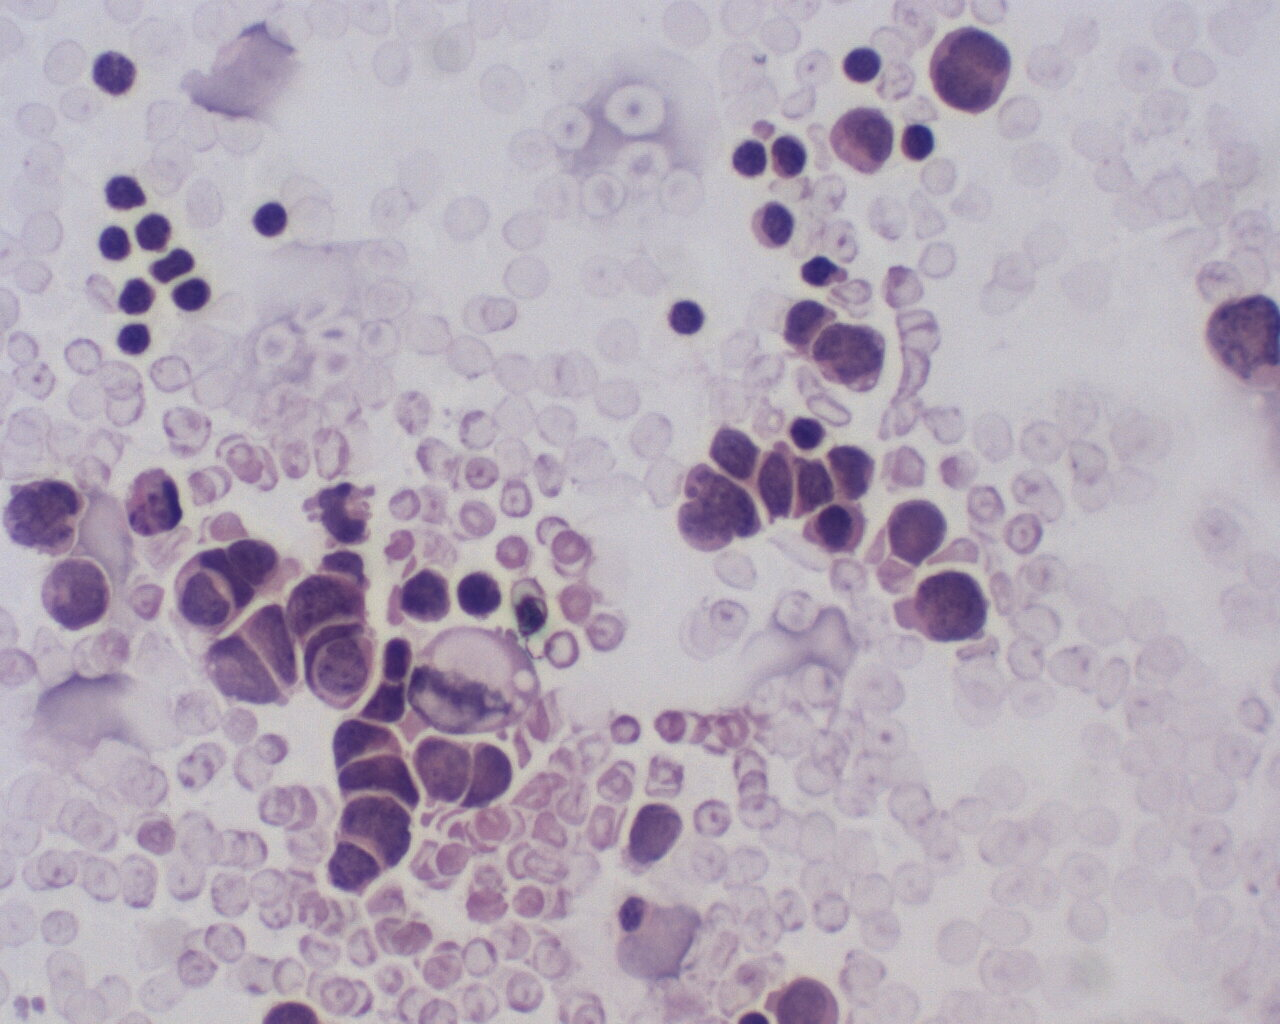ab: (317, 715, 424, 897), (283, 563, 377, 708), (193, 601, 302, 708), (413, 726, 526, 817), (926, 23, 1021, 114), (815, 316, 894, 405), (41, 551, 115, 636), (912, 571, 994, 646)
lymph: (882, 497, 954, 566), (246, 187, 300, 240), (898, 118, 939, 165), (843, 44, 885, 88), (668, 298, 707, 342), (96, 222, 136, 263), (115, 320, 155, 355)
